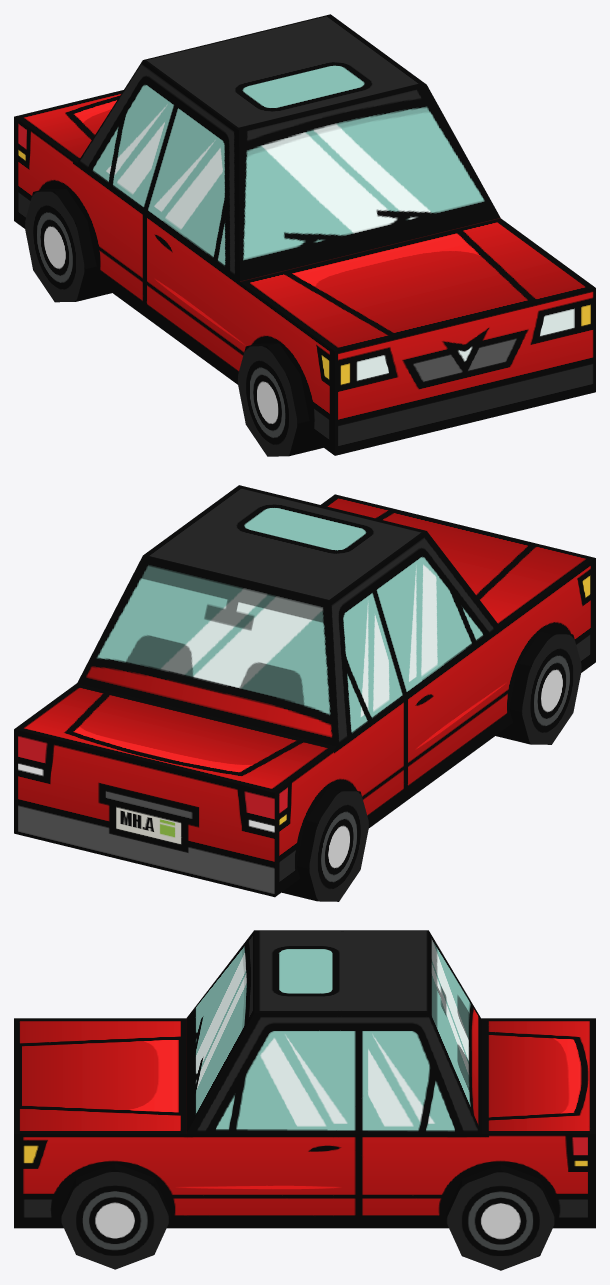
File: car1.gltf
3 views of the same model, one above another, from view 1: azimuth 30°, elevation 25°; view 2: azimuth 150°, elevation 25°; view 3: azimuth 270°, elevation 25° (orthographic). The views are drawn at different scales.
Parts seen in each view (by area): view 1: Cylinder.002; view 2: Cylinder.002; view 3: Cylinder.002.
Boxes of the visible parts, x1=… form: Cylinder.002: x1=14, y1=14, x2=595, y2=456; Cylinder.002: x1=14, y1=485, x2=595, y2=901; Cylinder.002: x1=14, y1=930, x2=595, y2=1270.
Bounding box in the file's own units: 2.79 × 2.41 × 5.41.
1 material, 1 textured.
